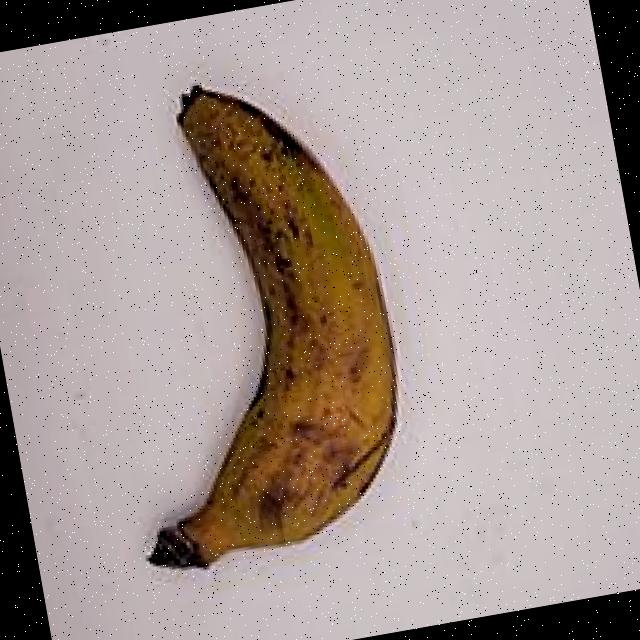Overripe: (56, 25, 463, 612)
